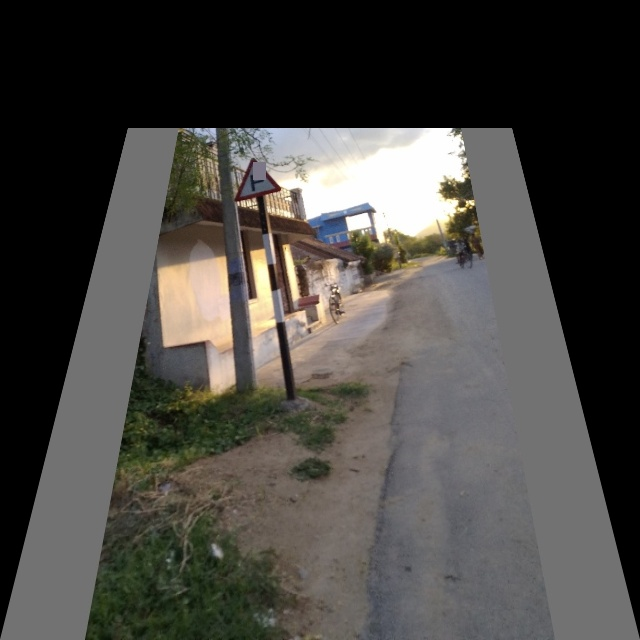Side_Road_Right: (231, 158, 289, 199)
